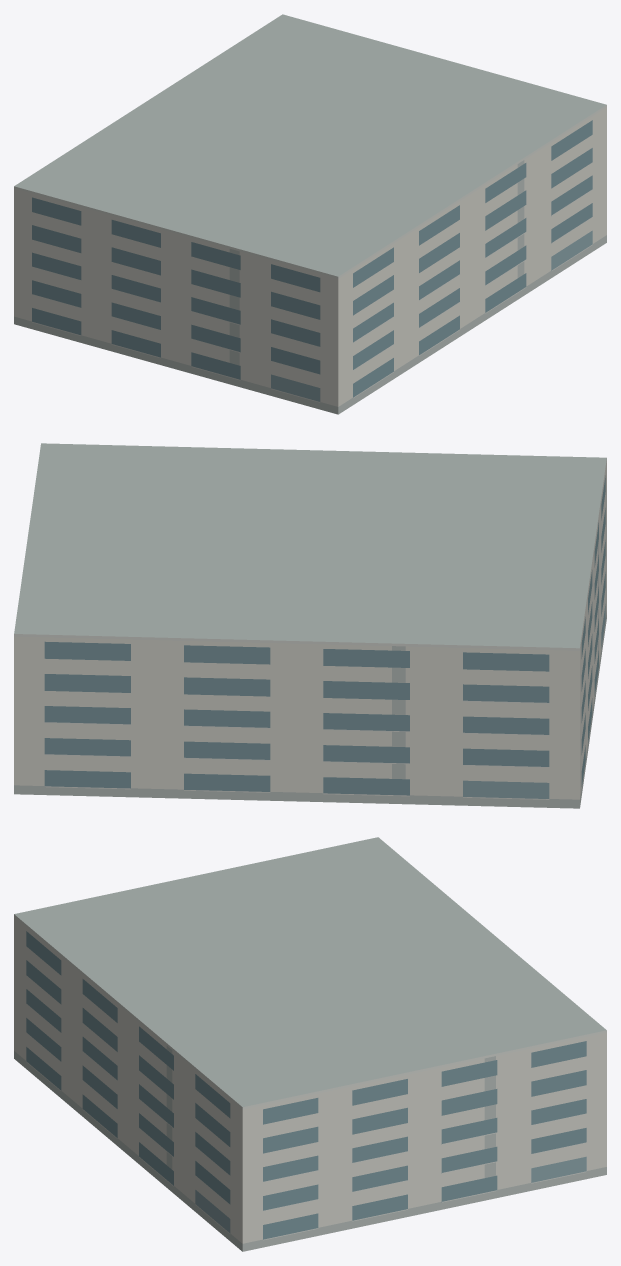
File: residential-7f946ee1-a5cd-408b-aa07-3e78e4290185.glb
The picture shows the model from 3 angles, top to bottom: view 1: azimuth 30°, elevation 25°; view 2: azimuth 150°, elevation 25°; view 3: azimuth 270°, elevation 25°; orthographic projection. The views are drawn at different scales.
Parts seen in each view (by area): view 1: residential-7f946ee1-a5cd-408b-aa07-3e78e4290185.tmp; view 2: residential-7f946ee1-a5cd-408b-aa07-3e78e4290185.tmp; view 3: residential-7f946ee1-a5cd-408b-aa07-3e78e4290185.tmp.
Boxes of the visible parts, x1,y1,x2,y2 form: residential-7f946ee1-a5cd-408b-aa07-3e78e4290185.tmp: (14, 14, 606, 414); residential-7f946ee1-a5cd-408b-aa07-3e78e4290185.tmp: (14, 443, 606, 808); residential-7f946ee1-a5cd-408b-aa07-3e78e4290185.tmp: (14, 837, 606, 1251).
Bounding box in the file's own units: 61.12 × 15.25 × 56.68.
